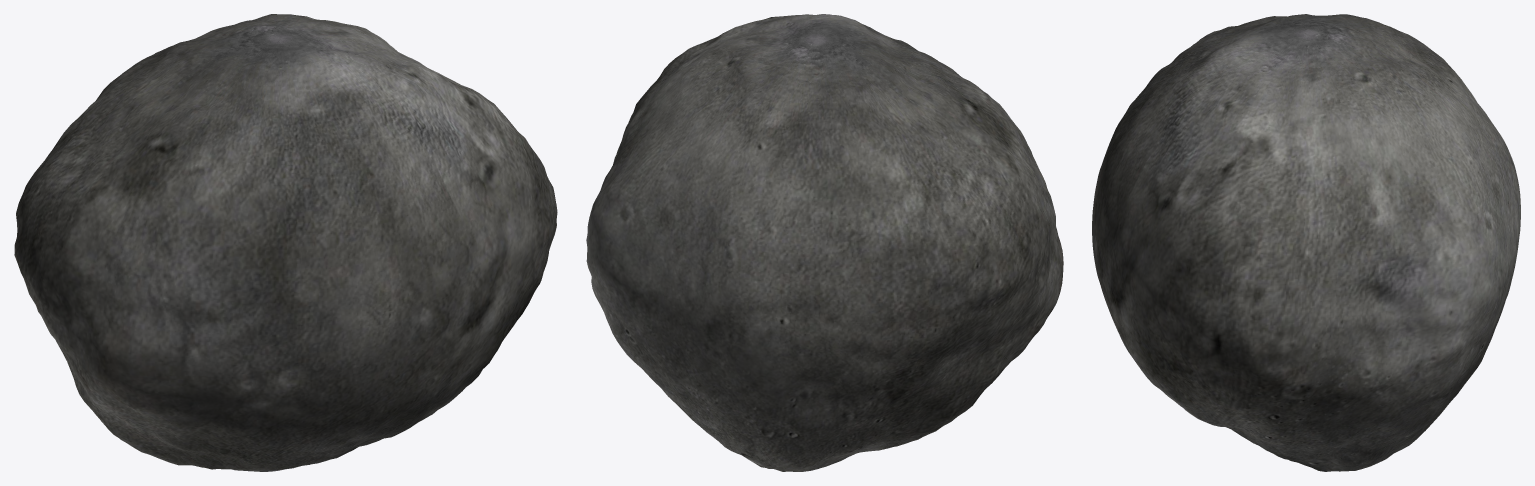
File: pallas.glb
3 views of the same model, side by side, from view 1: azimuth 30°, elevation 25°; view 2: azimuth 150°, elevation 25°; view 3: azimuth 270°, elevation 25° (orthographic). The views are drawn at different scales.
Parts seen in each view (by area): view 1: pallas; view 2: pallas; view 3: pallas.
Part boxes in pixels (x1=…): pallas: x1=14, y1=14, x2=557, y2=471; pallas: x1=586, y1=14, x2=1063, y2=471; pallas: x1=1092, y1=14, x2=1520, y2=471.
Size of the model in its own units: 286 by 254 by 234.
1 material, 1 textured.
